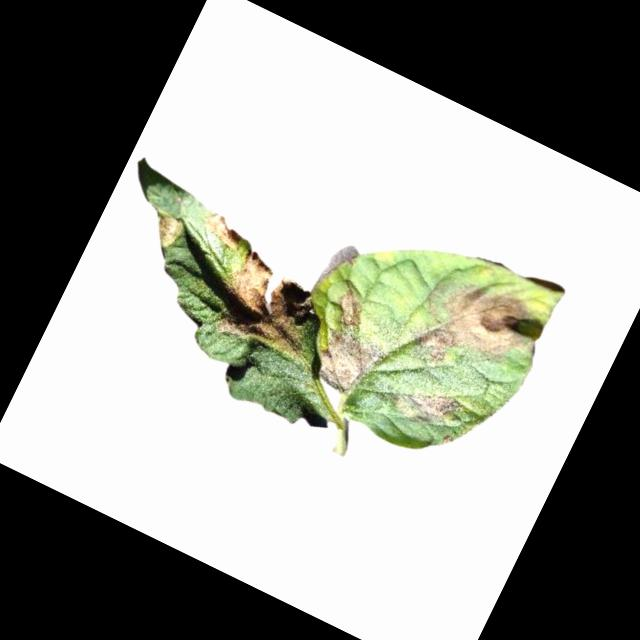Late_blight: (403, 262, 541, 393), (203, 243, 335, 370), (307, 324, 389, 404), (384, 372, 464, 441), (196, 207, 249, 254), (143, 207, 188, 254), (331, 287, 372, 330)
